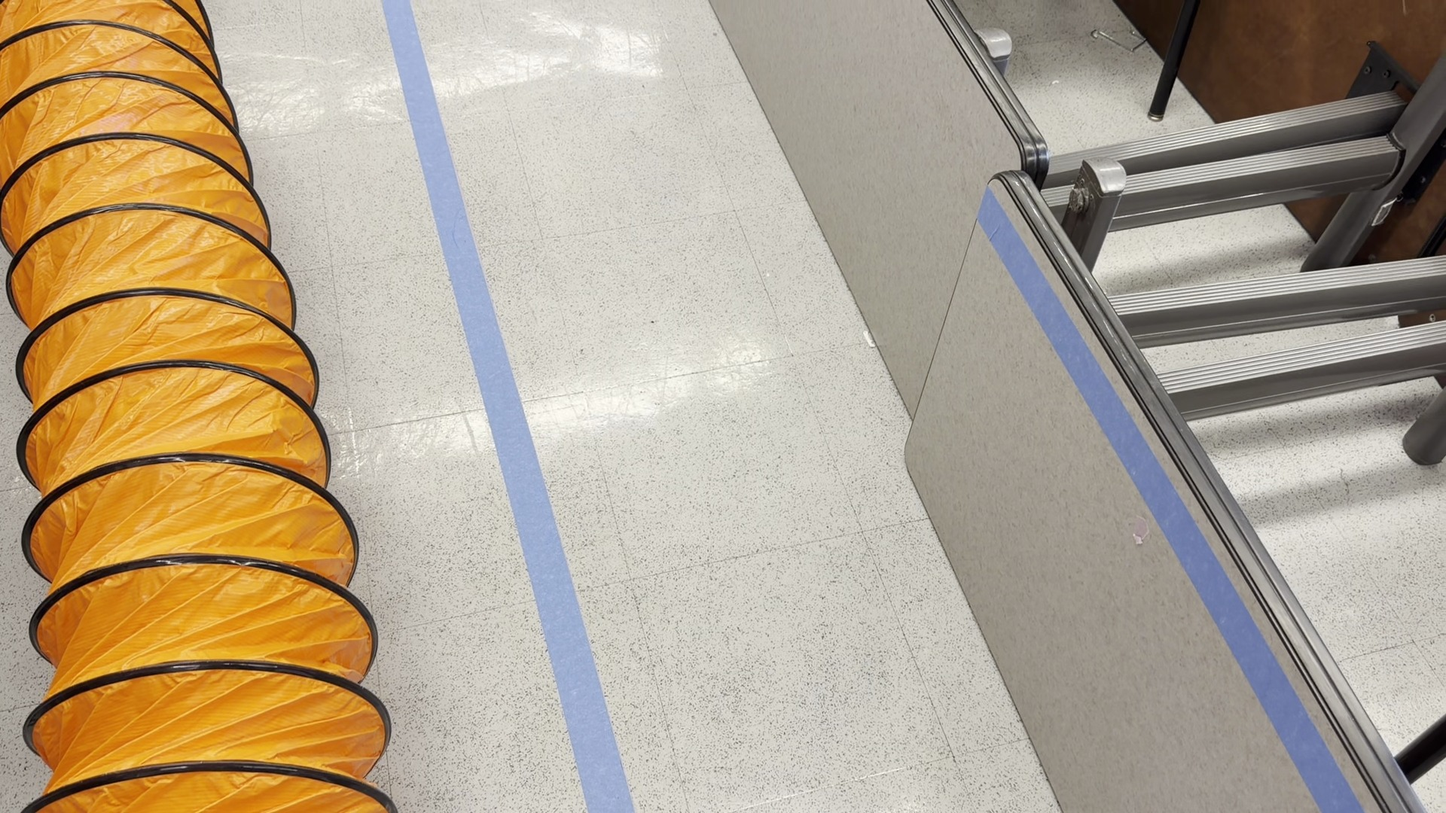racecar: (717, 0, 1443, 811)
